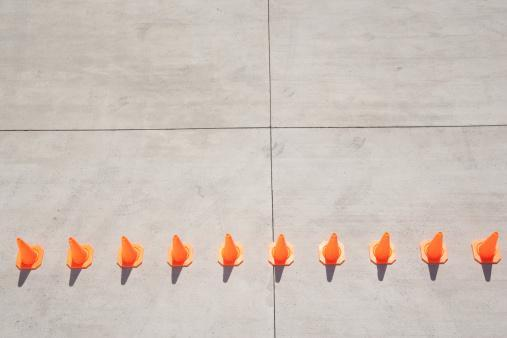Cone: (316, 232, 346, 267), (368, 230, 398, 265), (266, 232, 295, 268), (420, 230, 449, 266), (473, 230, 502, 266), (64, 236, 94, 270), (115, 235, 143, 270), (216, 232, 243, 268), (12, 235, 40, 268), (165, 233, 191, 268)
